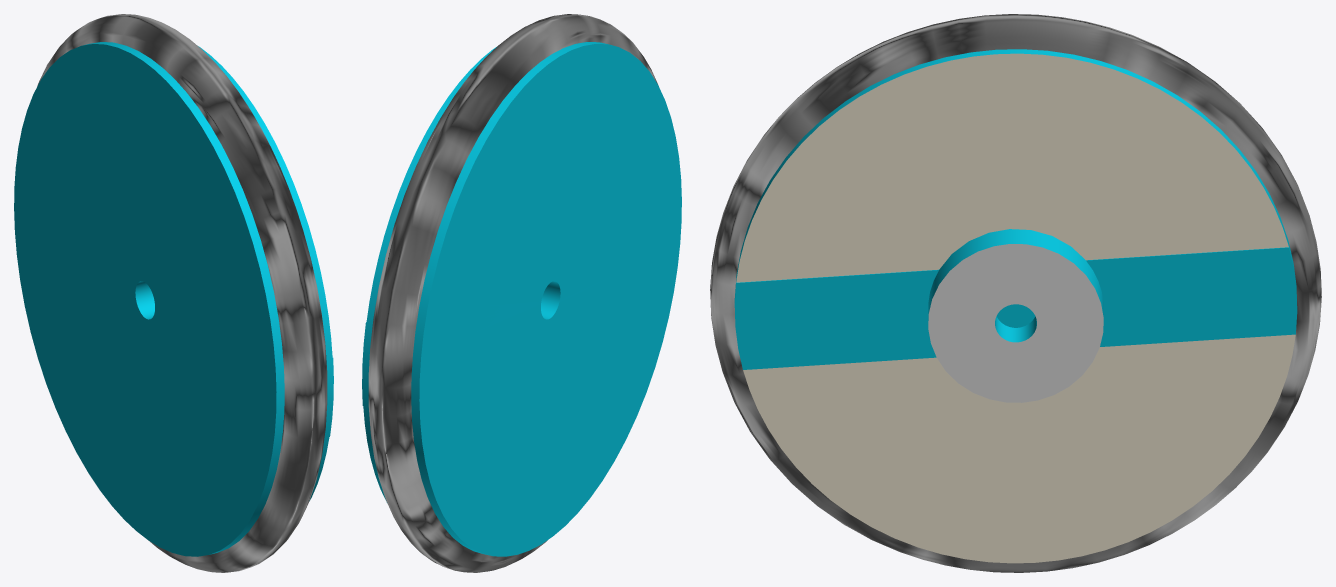
The model's file is wheel.dae.
3 renders of one model, left to right at view 1: azimuth 30°, elevation 25°; view 2: azimuth 150°, elevation 25°; view 3: azimuth 270°, elevation 25°, orthographic. The views are drawn at different scales.
Visible parts, largest first — view 1: Body1, Body1.001; view 2: Body1, Body1.001; view 3: Body1, Body1.001.
Boxes of the visible parts, x1,y1,x2,y2 form: Body1: (14,42,333,556); Body1.001: (37,14,327,572); Body1: (362,42,681,556); Body1.001: (368,14,657,572); Body1: (734,49,1297,563); Body1.001: (710,14,1321,572).
Bounding box in the file's own units: 0.015 × 0.087 × 0.087.
